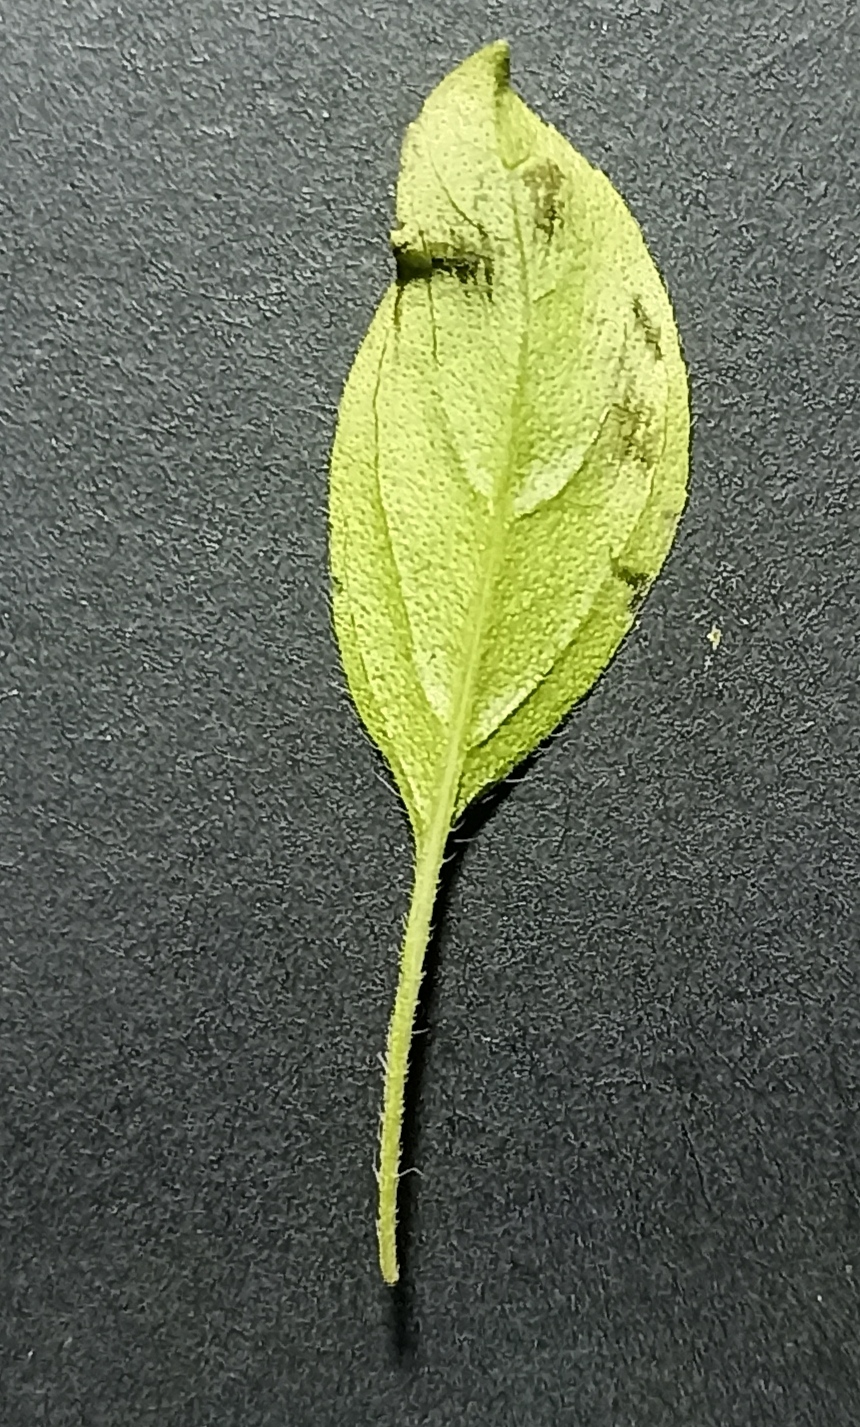Unhealthy: (320, 20, 705, 833)
